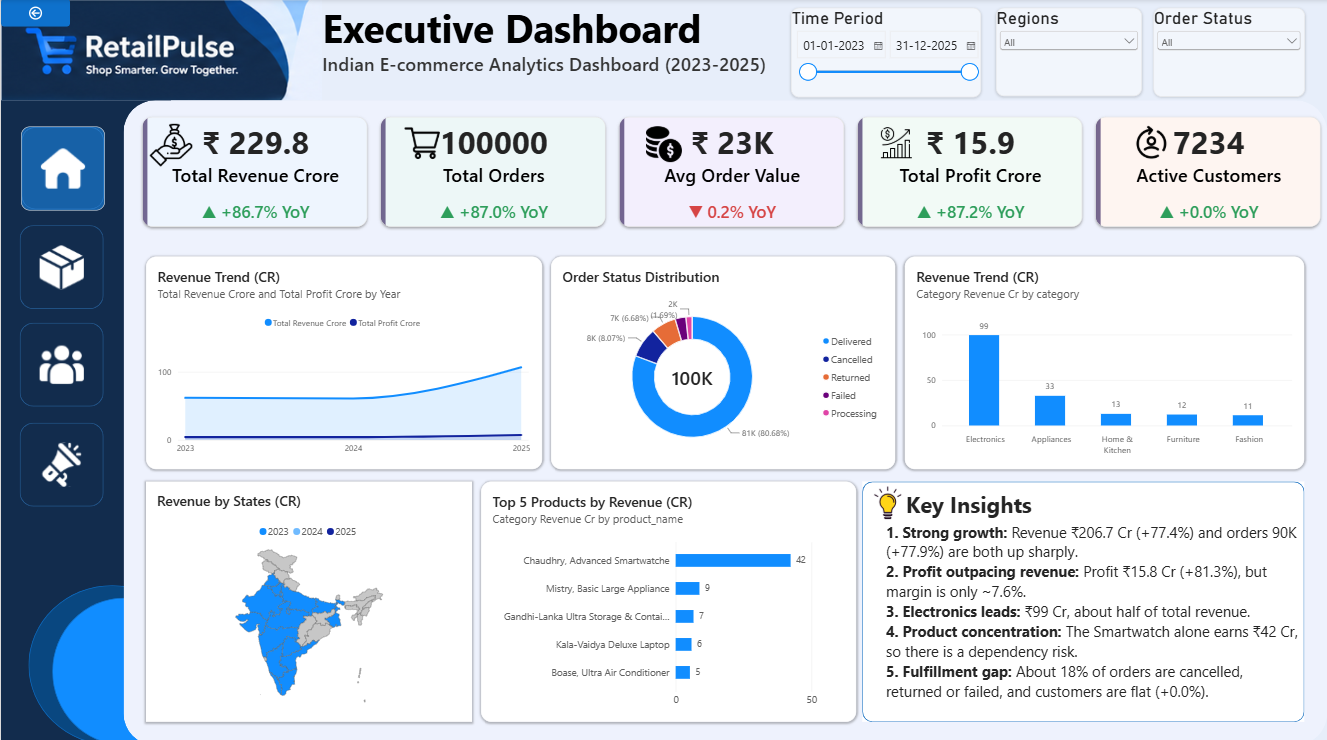

What the dashboard file says about the page in this screenshot:
{"tool":"powerbi","page":{"name":"Executive Dashboard","canvas":[1920,1080],"ordinal":0},"visuals":[{"type":"shape","box":[0,146.6,246.1,933.8],"z":1000},{"type":"image","box":[0,1.8,465.1,144.8],"z":2000},{"type":"shape","box":[39.8,848.7,242.5,231.6],"z":3000},{"type":"shape","box":[74.2,866.8,208.1,213.5],"z":4000},{"type":"shape","box":[176.6,146.6,1742.7,933.8],"z":5000},{"type":"textbox","box":[465.4,4.2,993.4,116.9],"z":6000},{"type":"textbox","box":[465.4,75.1,928.4,244.3],"z":7000},{"type":"cardVisual","fields":{"Data":["public orders.Total_Revenue_Cr","public orders.total_orders","public orders.Avg_order_value","public orders.Total_Profit_Cr","public customers.Currently_Active_Customers"]},"box":[199.1,164.7,1721,171.9],"z":8000,"group":"g1"},{"type":"image","box":[215.4,171.5,61.8,79.8],"z":9000,"group":"g1"},{"type":"image","box":[560.3,183.4,97.7,51.8],"z":10000,"group":"g1"},{"type":"image","box":[933.1,181.5,51.8,57.8],"z":11000,"group":"g1"},{"type":"image","box":[1272.1,181.5,47.9,53.8],"z":12000,"group":"g1"},{"type":"image","box":[1628.9,179.5,73.8,55.8],"z":13000,"group":"g1"},{"type":"areaChart","title":"Revenue Trend (CR)","fields":{"Category":["Date.Year"],"Y":["public orders.Total Revenue Crore","public orders.Total Profit Crore"]},"box":[209.2,373.7,573.4,307.9],"z":14000},{"type":"donutChart","title":"Order Status Distribution","fields":{"Category":["public orders.order_status"],"Y":["CountNonNull(public orders.order_status)"]},"box":[796.7,373.7,498.2,307.9],"z":15000},{"type":"columnChart","title":"Revenue Trend (CR)","fields":{"Category":["public products.category"],"Y":["public orders.Category Revenue Cr"]},"box":[1309,373.7,578.1,307.9],"z":16000},{"type":"shapeMap","title":"Revenue by States (CR)","fields":{"Category":["public orders.delivery_state"],"Series":["Date.Year"],"Value":["public orders.Total Revenue Crore"]},"box":[209.2,698,472.4,347.8],"z":17000},{"type":"barChart","title":"Top 5 Products by Revenue (CR)","fields":{"Category":["public products.product_name"],"Y":["public orders.Category Revenue Cr"]},"box":[695.6,698,542.9,347.8],"z":18000},{"type":"slicer","title":"Time Period","fields":{"Values":["Date.Date"]},"box":[1143.3,13.6,275.2,129.8],"z":20000},{"type":"actionButton","box":[0,0,100,40],"z":21000},{"type":"slicer","title":"Regions","fields":{"Values":["public orders.delivery_state"]},"box":[1439.8,13.6,211.2,127.9],"z":22000},{"type":"slicer","title":"Order Status","fields":{"Values":["public orders.order_status"]},"box":[1668.5,12.7,219,128.5],"z":23000},{"type":"actionButton","box":[29,184.6,121.2,121.2],"z":24000},{"type":"actionButton","box":[27.1,327.5,121.2,121.2],"z":25000},{"type":"actionButton","box":[27.1,468.7,121.2,121.2],"z":26000},{"type":"actionButton","box":[27.1,613.5,121.2,121.2],"z":27000},{"type":"group","id":"g1","title":"Group 1","box":[199.1,164.7,1721,171.9],"z":27001},{"type":"shape","box":[1246.4,698.5,640.1,348.3],"z":27003,"group":"g2"},{"type":"image","box":[1244.5,706,77.2,47.1],"z":27004,"group":"g2"},{"type":"textbox","box":[1310.4,709.8,299.4,47.1],"z":27005,"group":"g2"},{"type":"textbox","box":[1280.3,756.9,598.7,271.1],"z":27006,"group":"g2"},{"type":"group","id":"g2","title":"Group 2","box":[1244.5,698.5,642,348.3],"z":27007}]}

Visuals, with their boxes in screenshot pixels (x1, y1, x2, y2), scaled from the page's 1920x1080 canvas onto the 1327x740 screenshot:
shape: crop(0, 100, 170, 739)
image: crop(0, 1, 321, 100)
shape: crop(28, 582, 195, 739)
shape: crop(51, 594, 195, 739)
shape: crop(122, 100, 1326, 739)
textbox: crop(322, 3, 1008, 83)
textbox: crop(322, 51, 963, 219)
cardVisual - public orders.Total_Revenue_Cr x public orders.total_orders: crop(138, 113, 1326, 231)
image: crop(149, 118, 192, 172)
image: crop(387, 126, 455, 161)
image: crop(645, 124, 681, 164)
image: crop(879, 124, 912, 161)
image: crop(1126, 123, 1177, 161)
"Revenue Trend (CR)" areaChart: crop(145, 256, 541, 467)
"Order Status Distribution" donutChart: crop(551, 256, 895, 467)
"Revenue Trend (CR)" columnChart: crop(905, 256, 1304, 467)
"Revenue by States (CR)" shapeMap: crop(145, 478, 471, 717)
"Top 5 Products by Revenue (CR)" barChart: crop(481, 478, 856, 717)
"Time Period" slicer: crop(790, 9, 980, 98)
actionButton: crop(0, 0, 69, 27)
"Regions" slicer: crop(995, 9, 1141, 97)
"Order Status" slicer: crop(1153, 9, 1305, 97)
actionButton: crop(20, 126, 104, 210)
actionButton: crop(19, 224, 102, 307)
actionButton: crop(19, 321, 102, 404)
actionButton: crop(19, 420, 102, 503)
"Group 1" group: crop(138, 113, 1326, 231)
shape: crop(861, 479, 1304, 717)
image: crop(860, 484, 913, 516)
textbox: crop(906, 486, 1113, 519)
textbox: crop(885, 519, 1299, 704)
"Group 2" group: crop(860, 479, 1304, 717)
